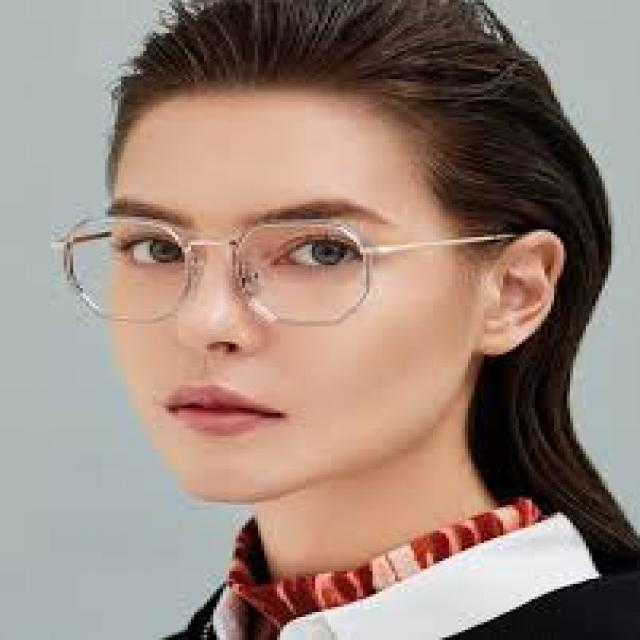Glasses: (46, 199, 396, 326)
